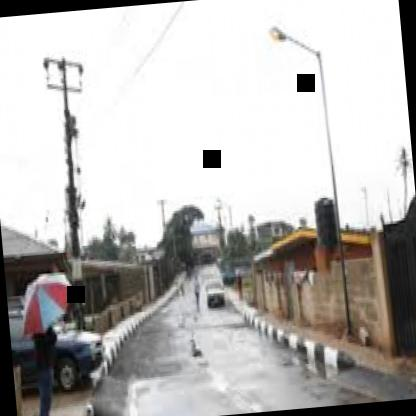car: (6, 274, 118, 394), (198, 259, 238, 324)
